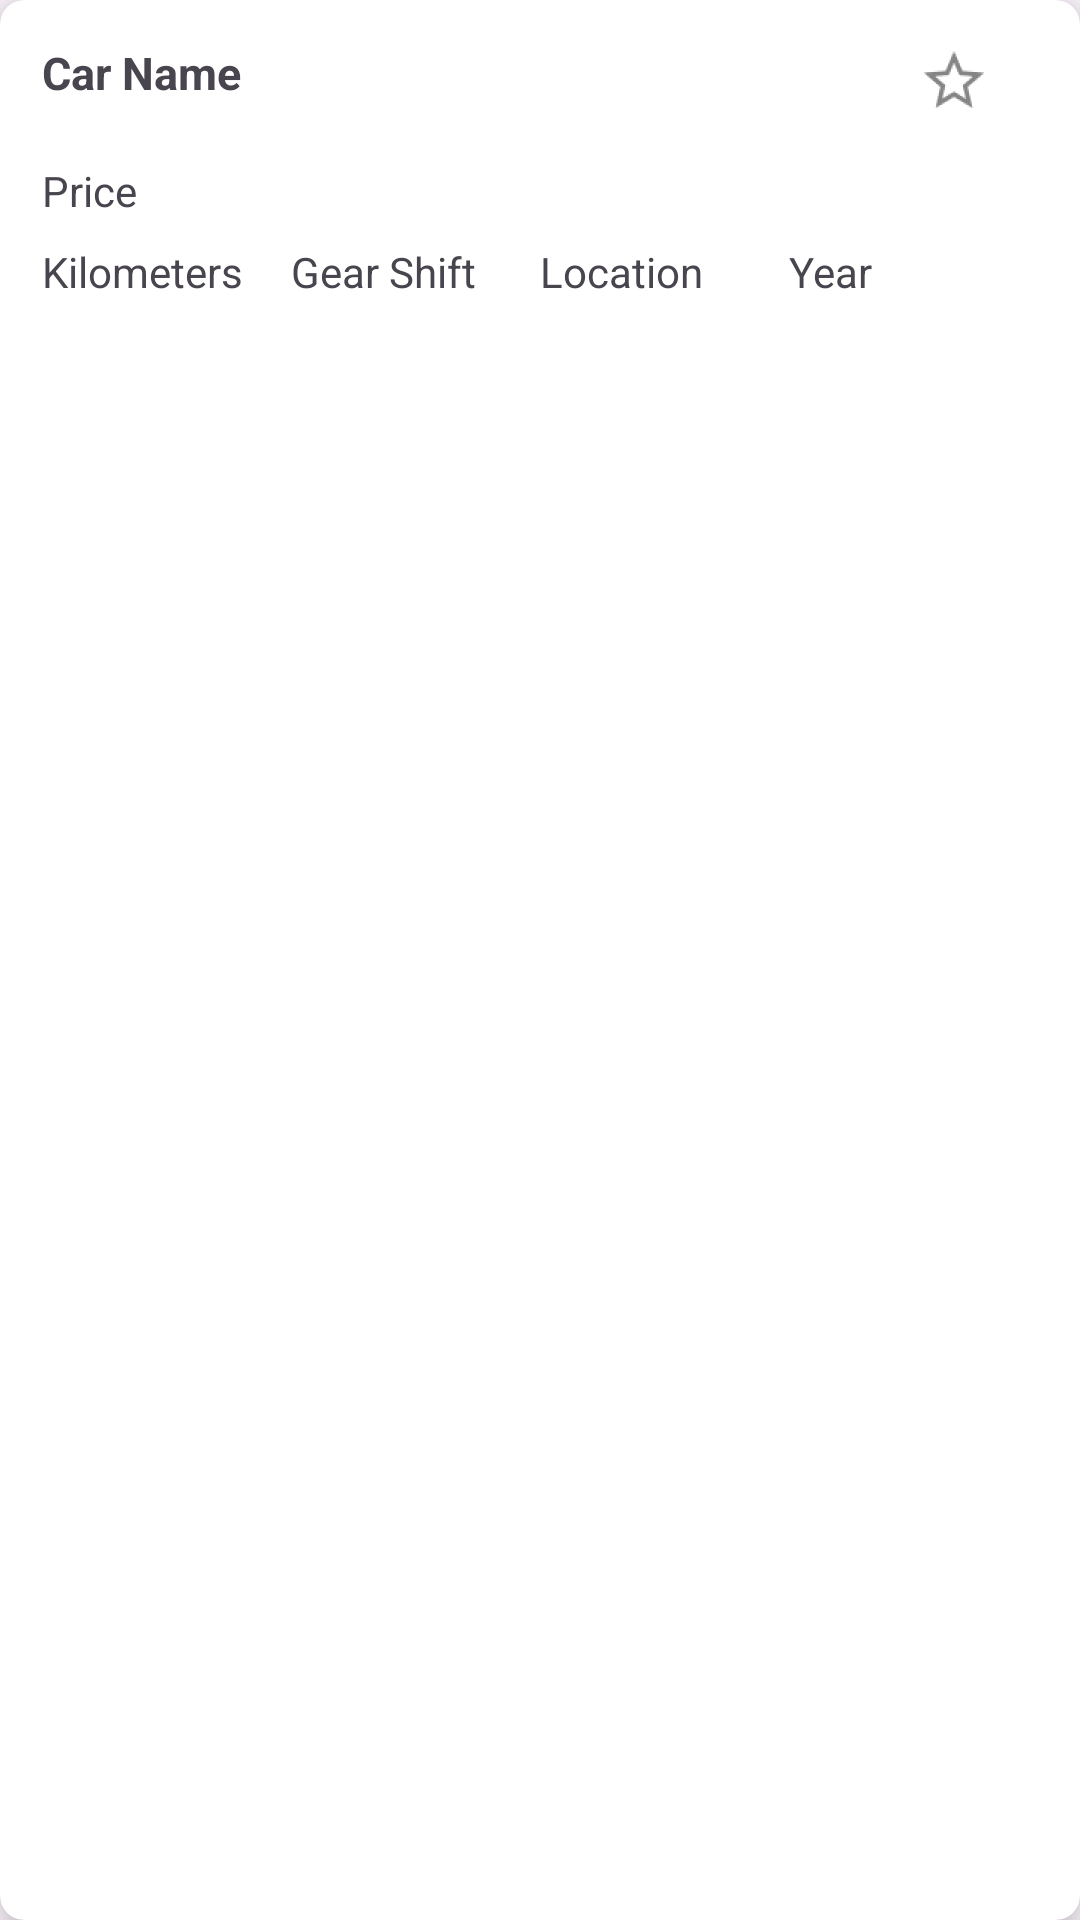

Screen size 1080 x 1920. Icon name, then its box in pixels as bbox=(x1, y1, x2, y2):
fav: bbox=(924, 52, 984, 108)
